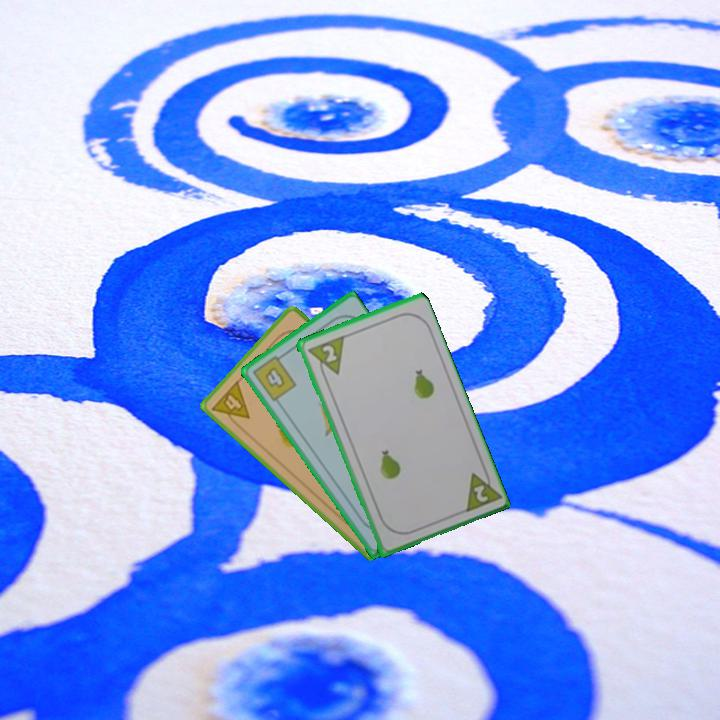2p: (459, 463, 502, 516), (303, 332, 347, 382)
4b: (249, 350, 299, 405)
4p: (208, 377, 253, 431)
